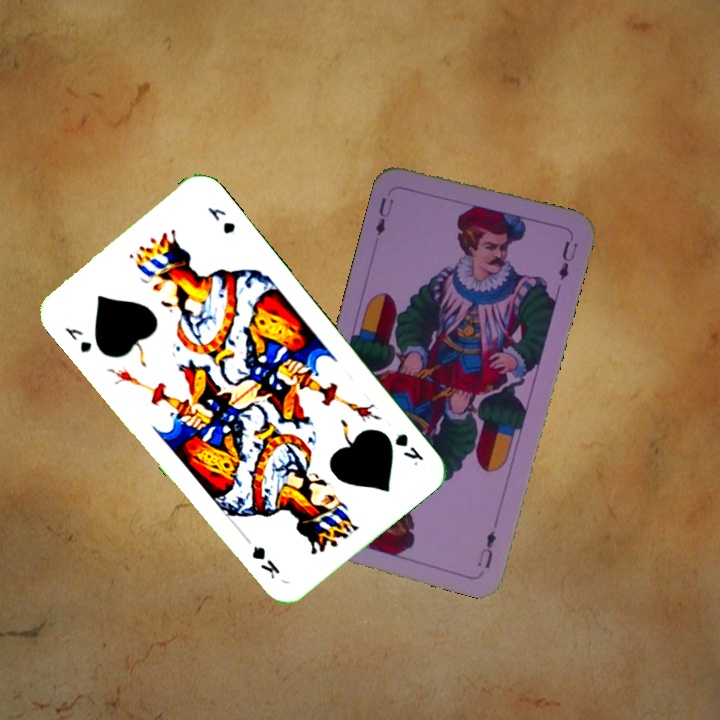EU: (473, 526, 499, 571), (371, 194, 396, 239)
GK: (390, 429, 427, 468), (60, 323, 95, 356)
